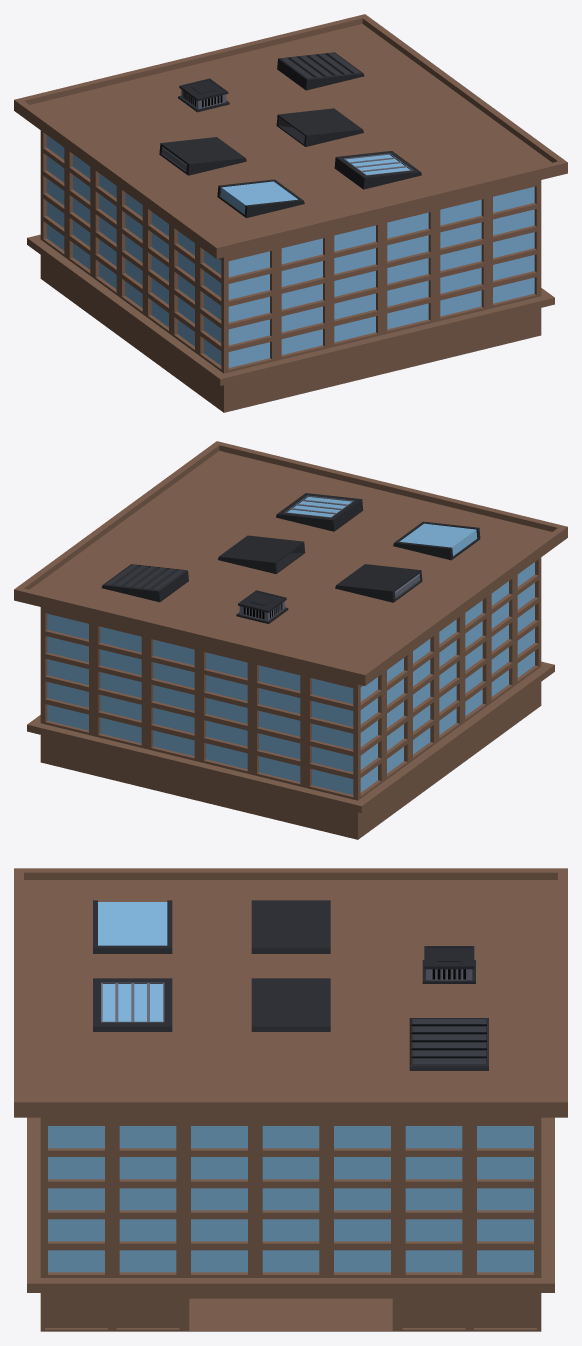
Rendered from EdificioChico.fbx.
3 renders of one model, top to bottom at view 1: azimuth 30°, elevation 25°; view 2: azimuth 150°, elevation 25°; view 3: azimuth 270°, elevation 25°, orthographic. The views are drawn at different scales.
Parts seen in each view (by area): view 1: EdificioGrande.014; view 2: EdificioGrande.014; view 3: EdificioGrande.014.
Part boxes in pixels (left/top/right/bottom): EdificioGrande.014: left=14, top=14, right=567, bottom=412; EdificioGrande.014: left=14, top=441, right=567, bottom=839; EdificioGrande.014: left=14, top=868, right=567, bottom=1331.
Bounding box in the file's own units: 8.7 × 4.34 × 8.7.
